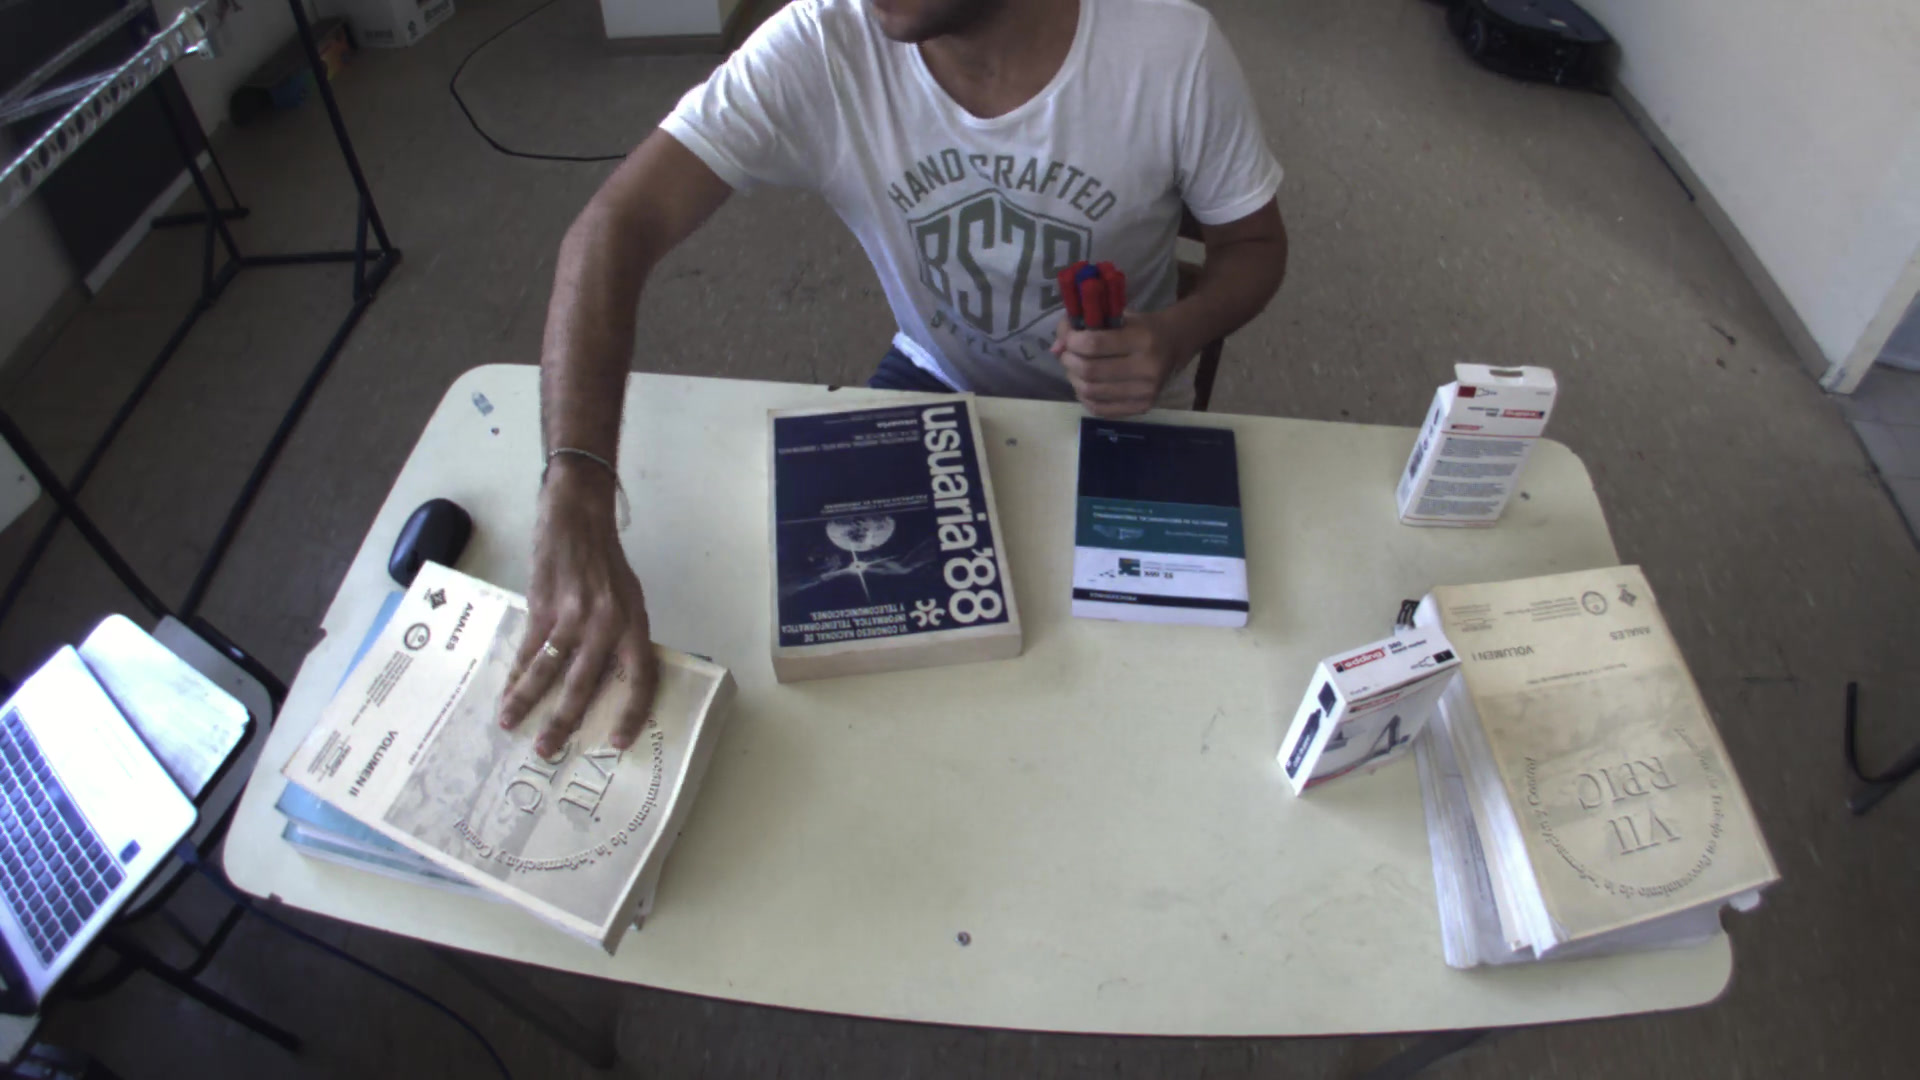hand: (483, 460, 663, 771), (1040, 256, 1180, 429)
